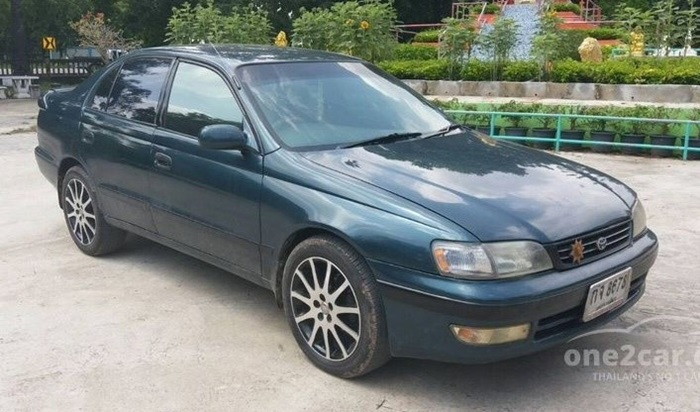sedan: (33, 42, 660, 377)
